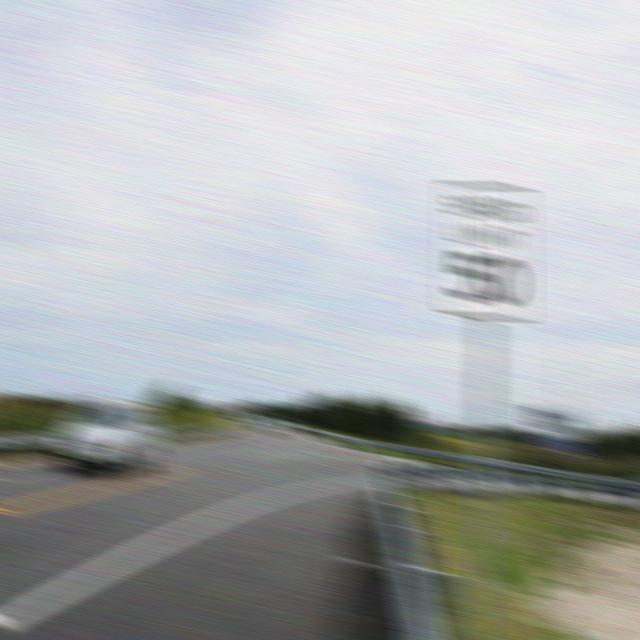speedLimit50: (444, 183, 530, 322)
